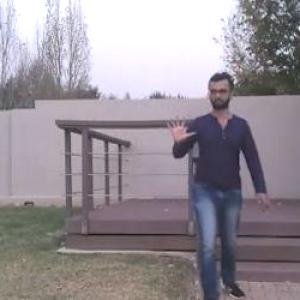follow_hand: (164, 109, 197, 148)
